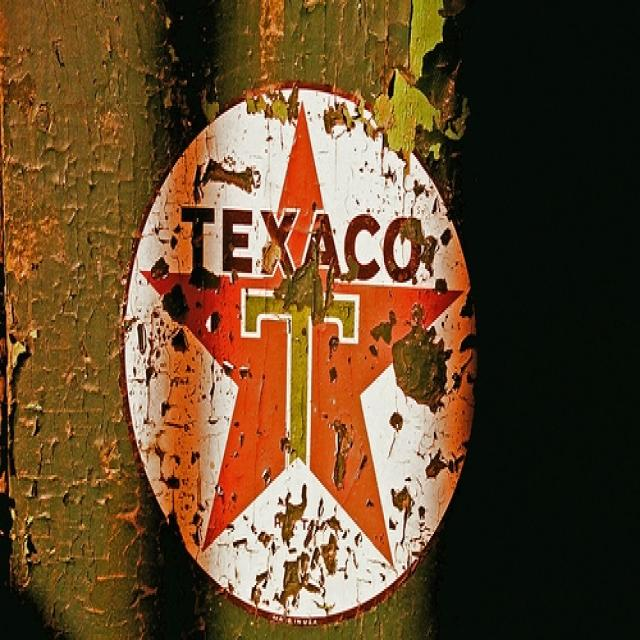texaco: (127, 86, 477, 622)
